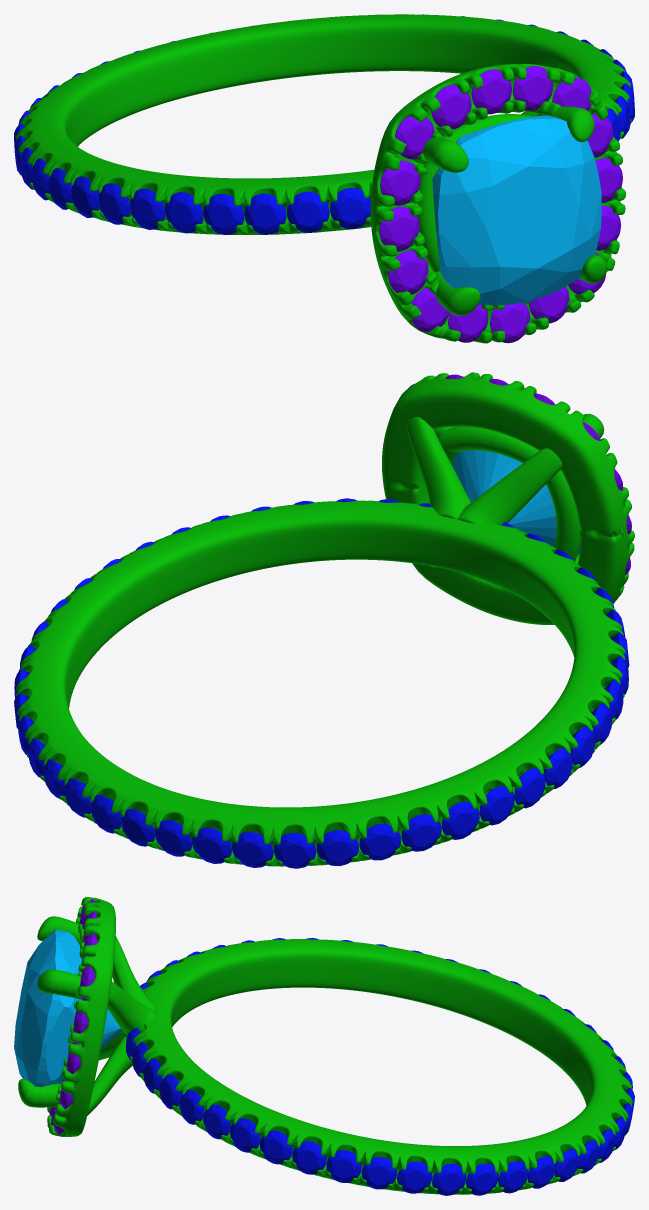
3 views of the same model, one above another, from view 1: azimuth 30°, elevation 25°; view 2: azimuth 150°, elevation 25°; view 3: azimuth 270°, elevation 25° (orthographic). The views are drawn at different scales.
Parts seen in each view (by area): view 1: ramona.3dm; view 2: ramona.3dm; view 3: ramona.3dm.
Part boxes in pixels (x1,y1,x2,y2): ramona.3dm: (14, 14, 634, 343); ramona.3dm: (14, 372, 634, 868); ramona.3dm: (14, 897, 634, 1195).
Size of the model in its own units: 2.45 by 1.11 by 2.96.
